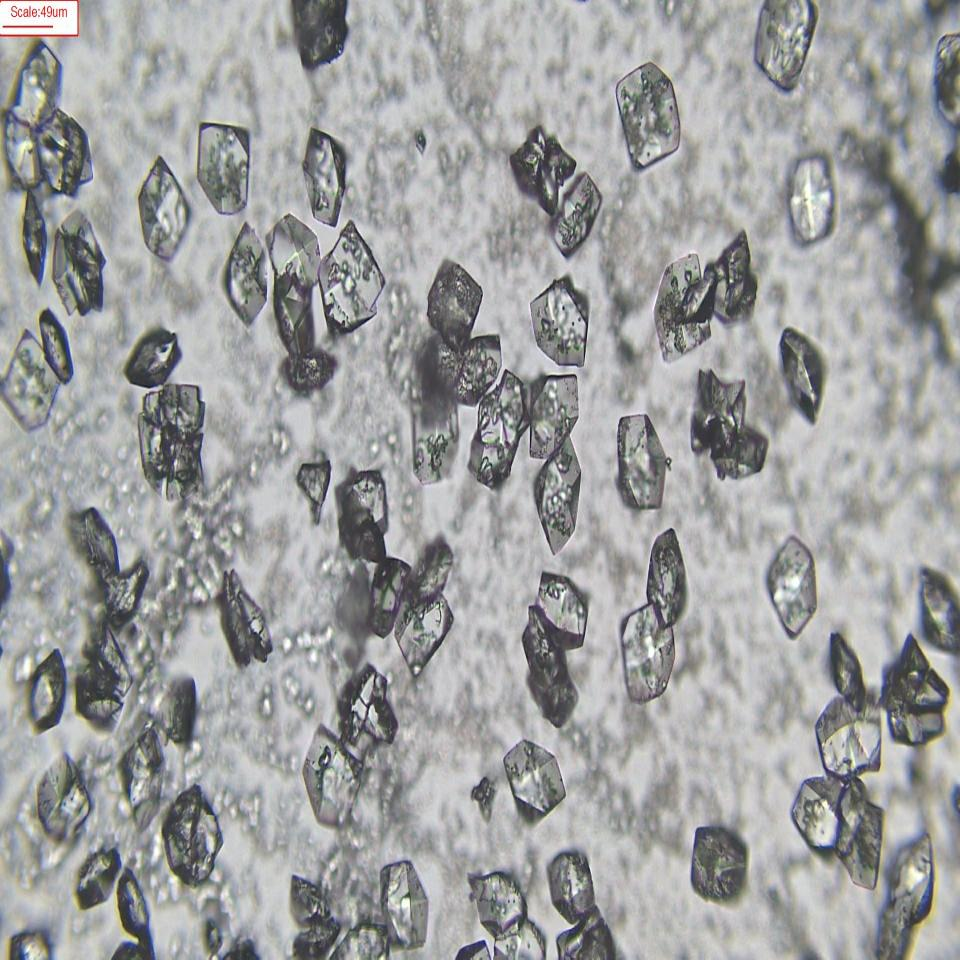crystal: (611, 59, 687, 172), (317, 219, 387, 340), (299, 724, 366, 837), (520, 609, 580, 728), (130, 149, 192, 264), (472, 366, 526, 491), (754, 0, 822, 99), (616, 400, 670, 520), (621, 601, 684, 703), (817, 690, 888, 780), (163, 778, 221, 888), (764, 532, 821, 643), (688, 814, 750, 912), (193, 118, 251, 222), (889, 643, 948, 745), (297, 124, 352, 232), (534, 437, 586, 550), (528, 274, 590, 367), (6, 334, 61, 437), (221, 215, 271, 327), (503, 734, 568, 820), (378, 852, 435, 950), (336, 665, 395, 756), (35, 750, 92, 844), (424, 247, 477, 345), (112, 322, 187, 389), (646, 518, 689, 629), (788, 772, 846, 854), (553, 162, 603, 257), (536, 567, 590, 653), (786, 150, 835, 244), (52, 217, 105, 303), (778, 316, 820, 422), (917, 564, 960, 660), (117, 736, 166, 818), (470, 871, 529, 939), (546, 850, 597, 920), (29, 644, 66, 736), (20, 187, 52, 286), (371, 550, 407, 636), (74, 841, 119, 908), (38, 300, 73, 384), (115, 871, 159, 935), (829, 633, 865, 697), (297, 455, 333, 518)
not_crystal: (652, 227, 751, 347), (510, 123, 579, 206), (219, 567, 274, 666)
